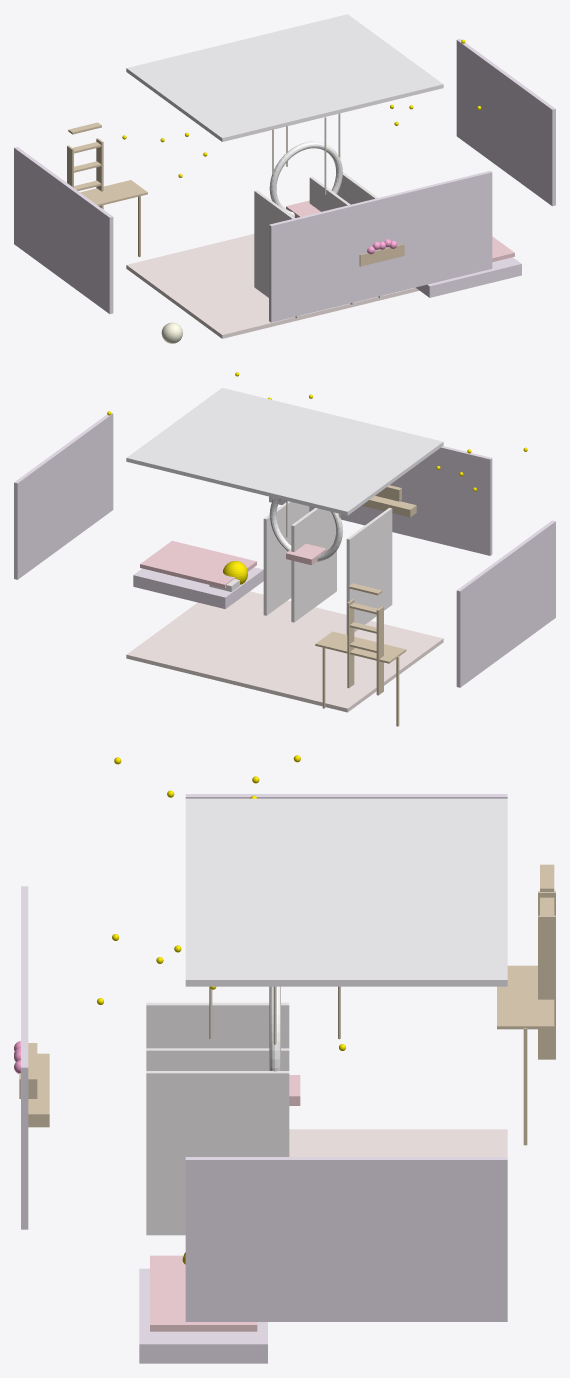
The model's file is baked_luna_room.glb.
3 views of the same model, one above another, from view 1: azimuth 30°, elevation 25°; view 2: azimuth 150°, elevation 25°; view 3: azimuth 270°, elevation 25° (orthographic). The views are drawn at different scales.
Visible parts, largest first — view 1: Ceiling, BackWall, LeftWall, RightWall, Floor, Curtain_2, BedBase, ChairRing, Desk_Luna, Curtain_1, Curtain_0, FlowerBox; view 2: Ceiling, Floor, LeftWall, RightWall, BackWall, Curtain_2, Curtain_1, BedBlanket, Curtain_0, BedBase, Desk_Luna, ChairRing (+4 smaller); view 3: Ceiling, RightWall, Curtain_0, Curtain_2, Floor, BedBase, BedBlanket, Curtain_1, Desk_Luna, BackWall, ShelfSide_R, LeftWall (+2 smaller).
Part boxes in pixels (x1,y1,x2,y2): Ceiling: (126,14,443,141); BackWall: (269,170,492,322); LeftWall: (14,147,113,313); RightWall: (456,39,555,206); Floor: (126,234,419,338); Curtain_2: (254,190,299,318); BedBase: (415,257,521,297); ChairRing: (269,141,342,217); Desk_Luna: (80,180,147,206); Curtain_1: (309,177,355,304); Curtain_0: (337,172,382,298); FlowerBox: (359,244,404,266); Ceiling: (126,388,443,515); Floor: (126,591,443,712); LeftWall: (456,520,555,687); RightWall: (14,413,113,579); BackWall: (269,446,492,555); Curtain_2: (346,507,392,634); Curtain_1: (291,508,336,622); BedBlanket: (140,540,256,588); Curtain_0: (263,501,309,615); BedBase: (133,567,263,609); Desk_Luna: (315,631,406,663); ChairRing: (269,498,342,561); Ceiling: (185,798,507,986); RightWall: (185,1157,507,1321); Curtain_0: (146,1071,289,1235); Curtain_2: (146,1002,289,1048); Floor: (289,1129,507,1156); BedBase: (139,1268,267,1363); BedBlanket: (150,1255,257,1331); Curtain_1: (146,1048,289,1070); Desk_Luna: (497,965,554,1029); BackWall: (21,886,28,1229); ShelfSide_R: (538,915,555,1059); LeftWall: (185,794,507,798).
Bounding box in the file's own units: 1210 × 520 × 758.
